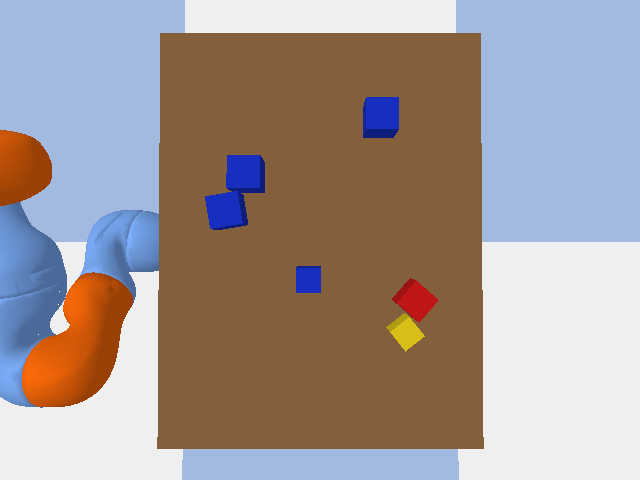blue_obj: (205, 191, 247, 229), (226, 155, 264, 192), (363, 97, 398, 137), (296, 266, 320, 292)
red_obj: (392, 278, 438, 322)
yellow_obj: (386, 313, 424, 351)
